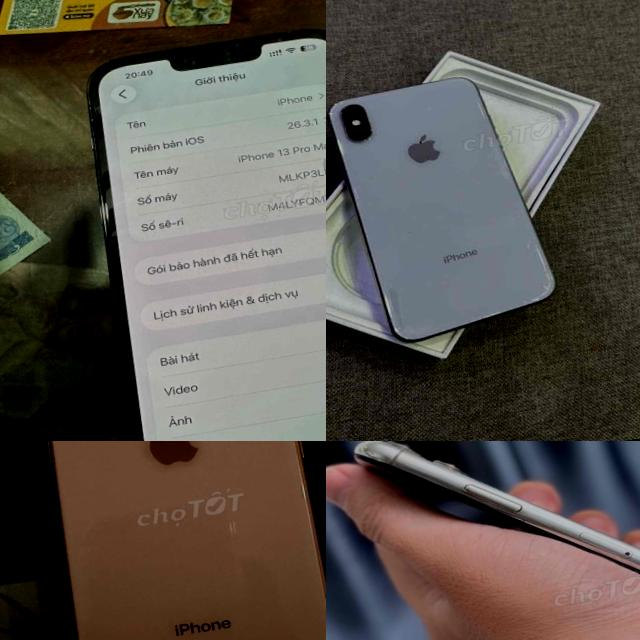gen_11: (340, 441, 640, 640)
gen_12_13: (70, 14, 326, 441)
gen_7_8: (26, 441, 326, 640)
gen_x_xs: (326, 50, 569, 356)
scratch: (291, 448, 326, 575), (222, 514, 244, 537)
